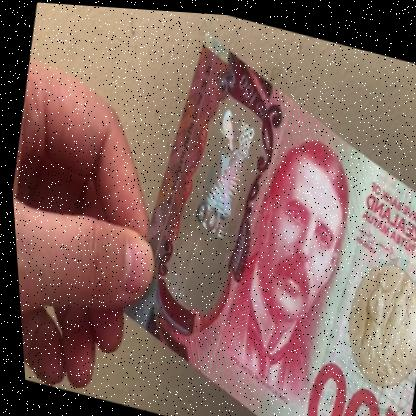100F: (155, 92, 265, 305)
